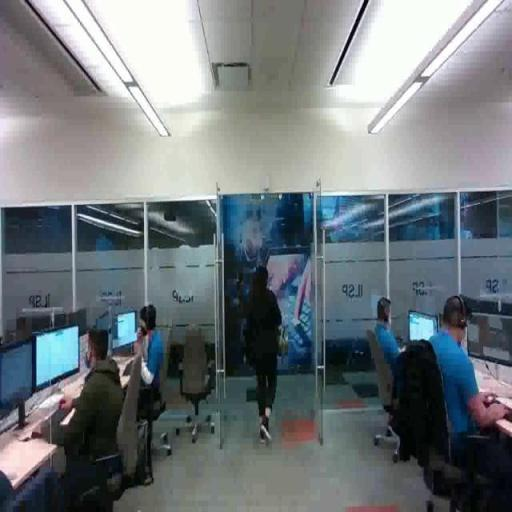person: (411, 288, 512, 483), (17, 319, 128, 494), (122, 292, 194, 434), (358, 284, 429, 424), (242, 267, 288, 456)
